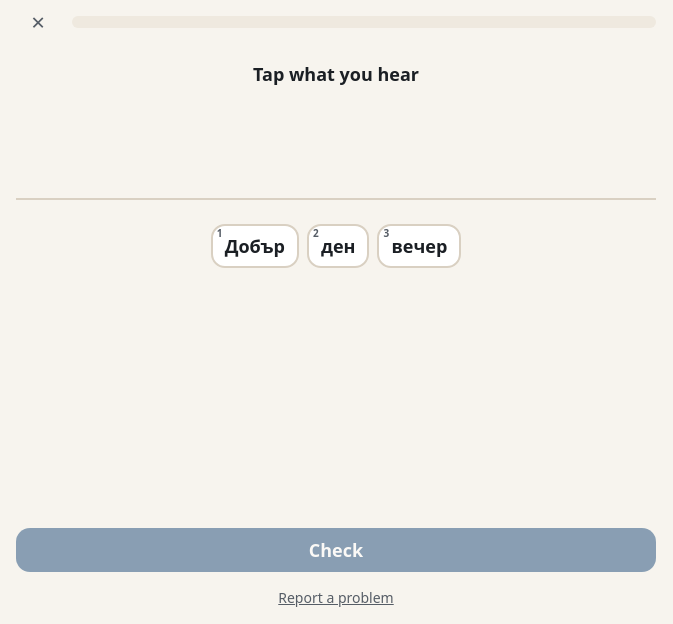
Test: listening › listen_tiles and listen_type grade Bulgarian answers
Later steps or results of the test are not shown.
expect the heading "Tap what you hear" is shown: met, box [253, 62, 419, 86]
Step 1. Click the button "1 Добър" → point(255, 246), box [211, 224, 299, 268]
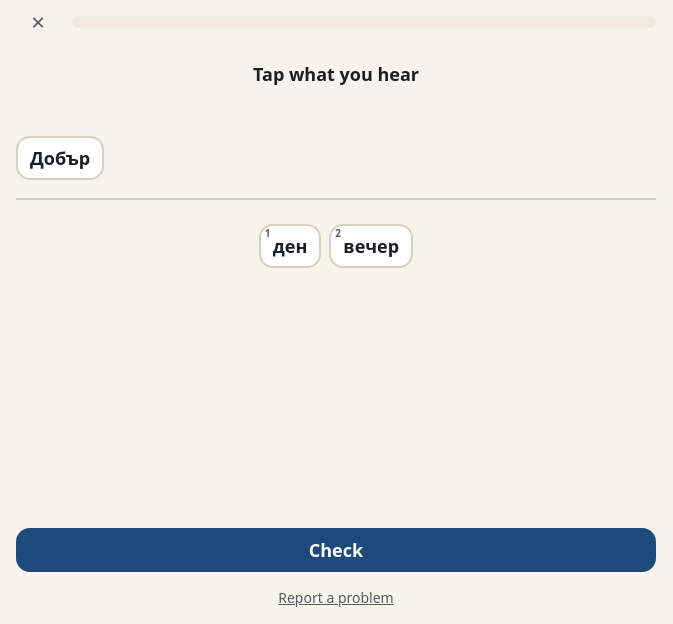
Step 2. Click the button "1 ден" → point(290, 246), box [259, 224, 321, 268]
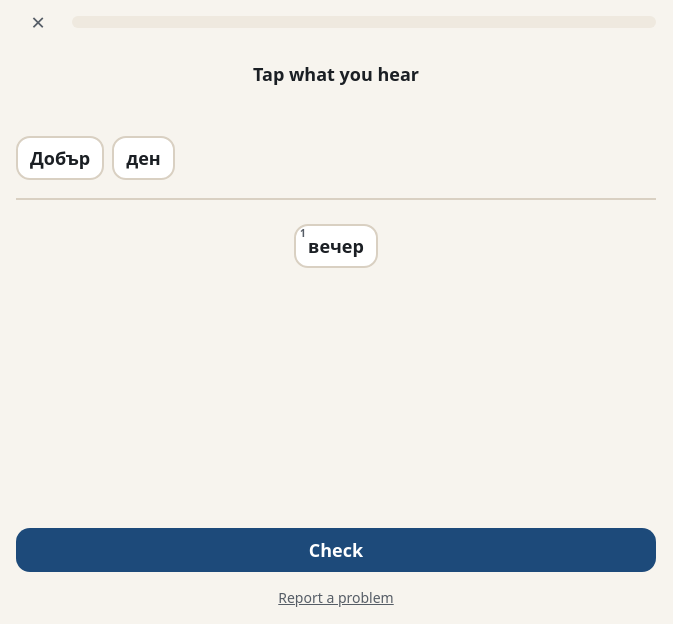
Step 3. Press Enter
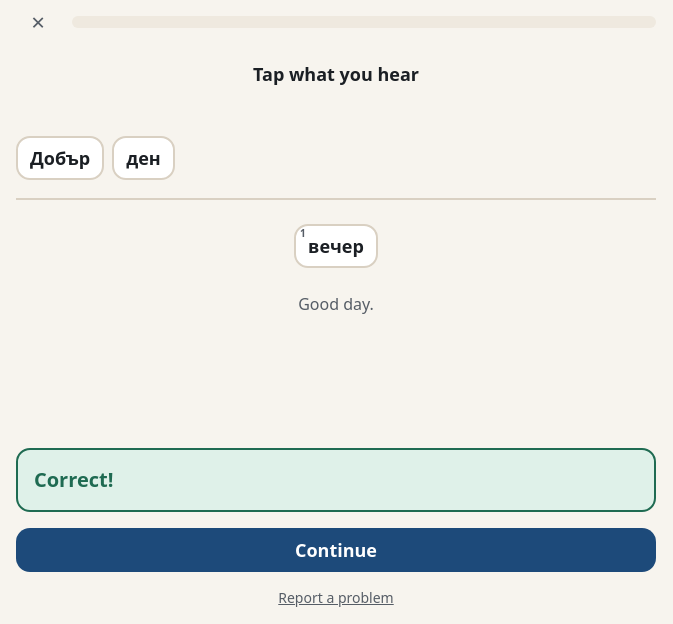
expect the text "Good day." is shown: met, box [298, 293, 374, 315]
